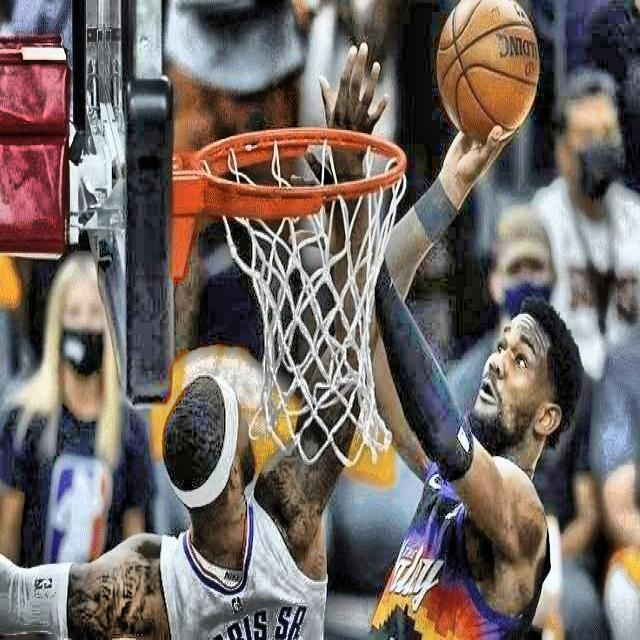rim: (200, 128, 407, 466)
